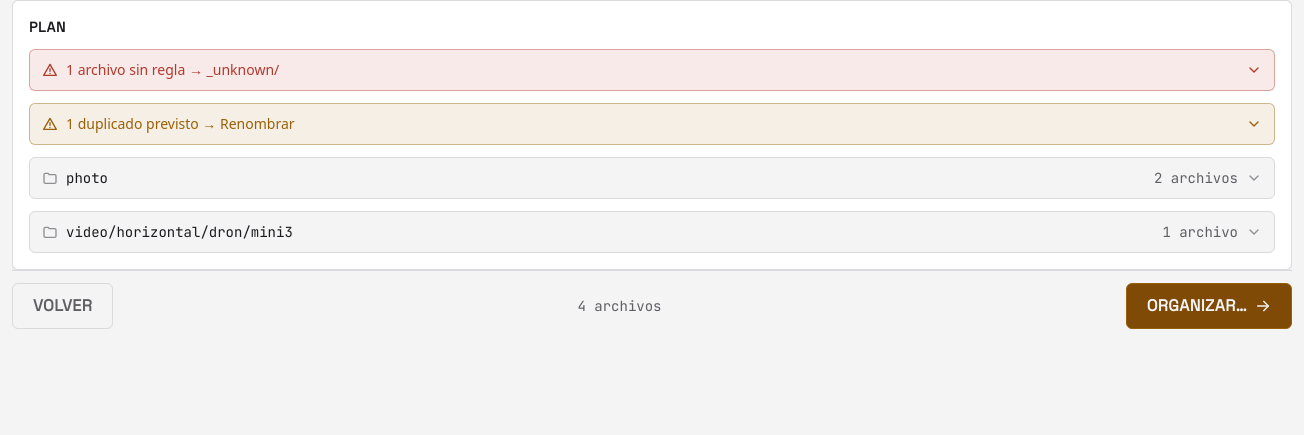
PlanPreview › groups by dest subfolder with counts, collapsed by default; _unknown stays out of the groups
Expected: the elements with test id "plan-group-name" read "photo", "video/horizontal/dron/mini3", in this order, [66,168,108,188]; [66,222,293,242]
Expected: the elements with test id "plan-group-count" read "2 archivos", "1 archivo", in this order, [1154,168,1238,188]; [1162,222,1238,242]
Click the button with test id "plan-group-toggle" showing "photo 2 archivos" at (87, 178), box [30,158,1274,198]
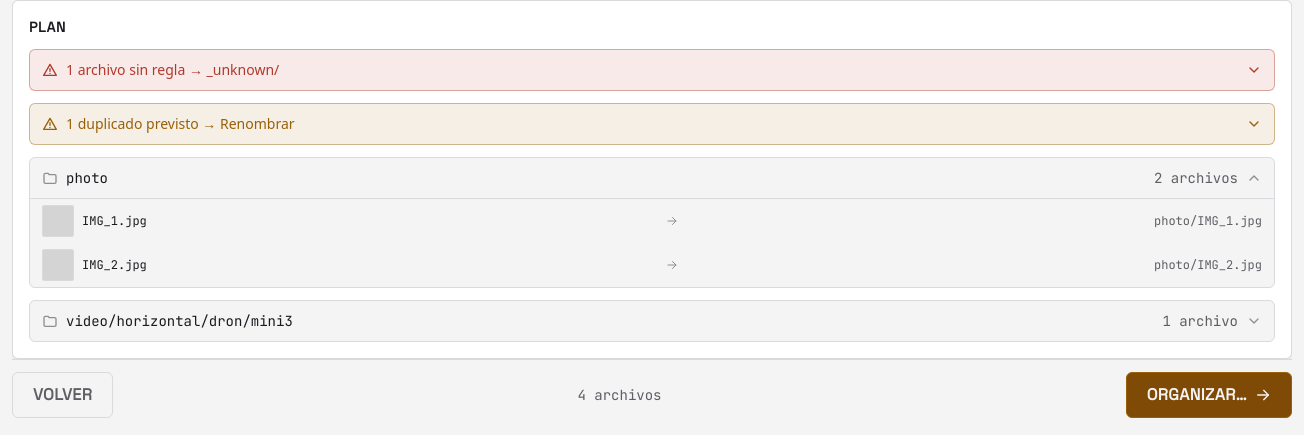
Now the number of list items with test id "plan-row" is 2, box [30,199,1274,243]; [30,243,1274,287]
Now the list item with test id "plan-row" shows "IMG_1.jpg", box [82,213,147,229]
Now the list item with test id "plan-row" shows "photo/IMG_1.jpg", box [1154,213,1262,229]
